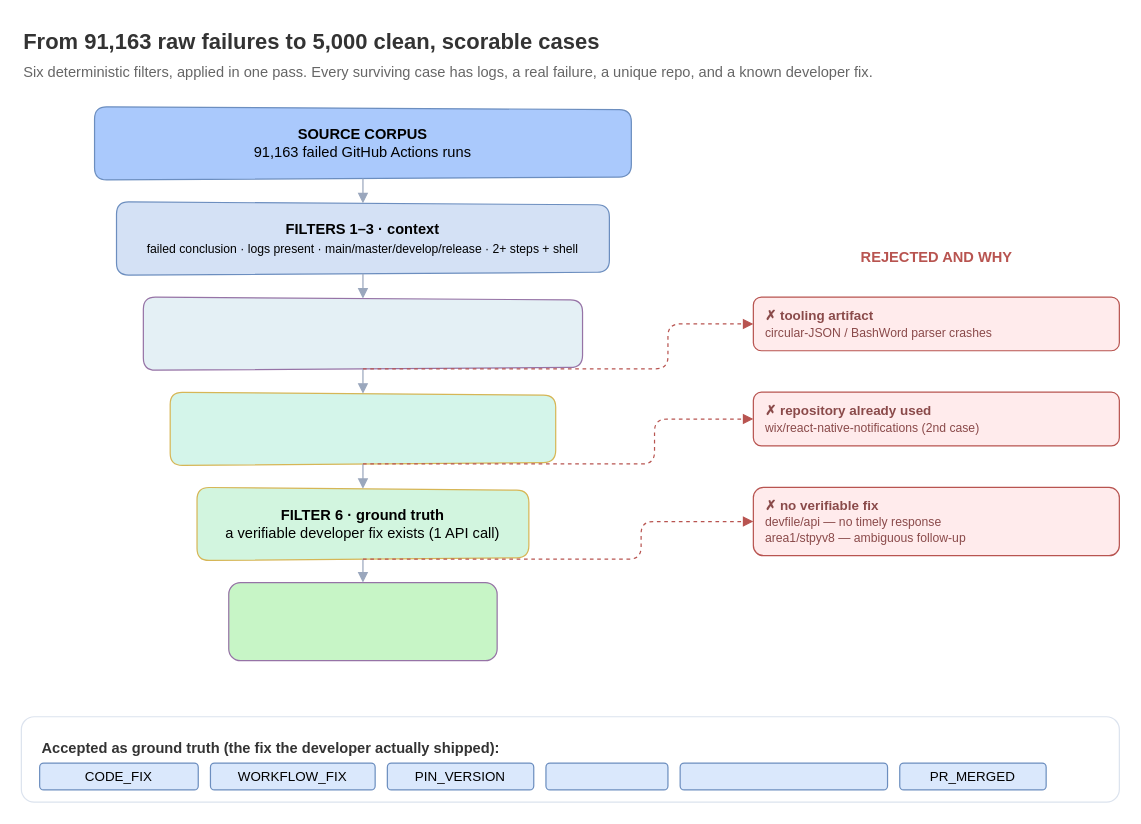
The diagram is 1141 pixels wide and 824 high, and some of its shapes have lost their labels. Each missing label, with the centre of its shape:
5,000 CURATED CASES 5,000 distinct repositories: the point at 362,621
DEPENDENCY_CHANGE: the point at 783,776
FILTER 4 · real failure not a GHALogs data-mining artifact: the point at 362,333
FILTER 5 · diversity at most ONE case per repository: the point at 362,428
REVERT: the point at 606,776
